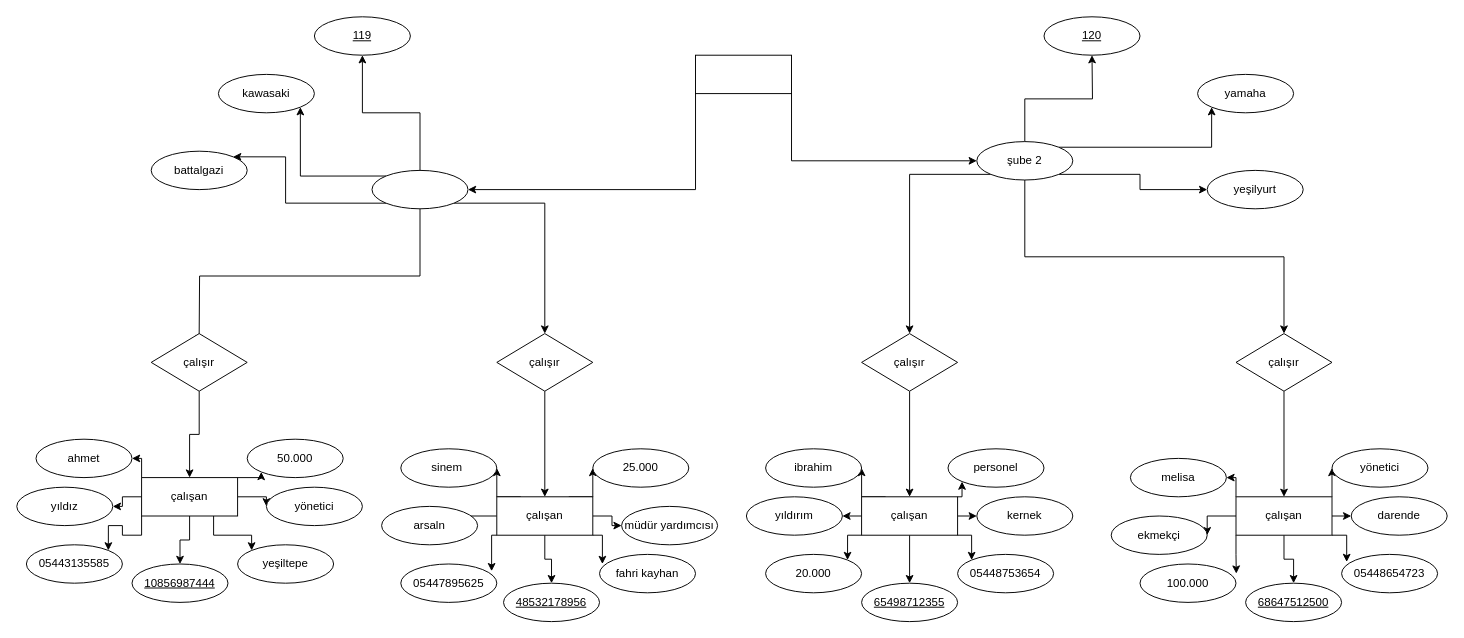
The diagram is 1464 pixels wide and 638 high, and some of its shapes have lost their labels. Here are the shapes that lost their labels. From the top down, the centre of each, then its label:
pixel 743 74: şirket
pixel 419 189: şube 1
